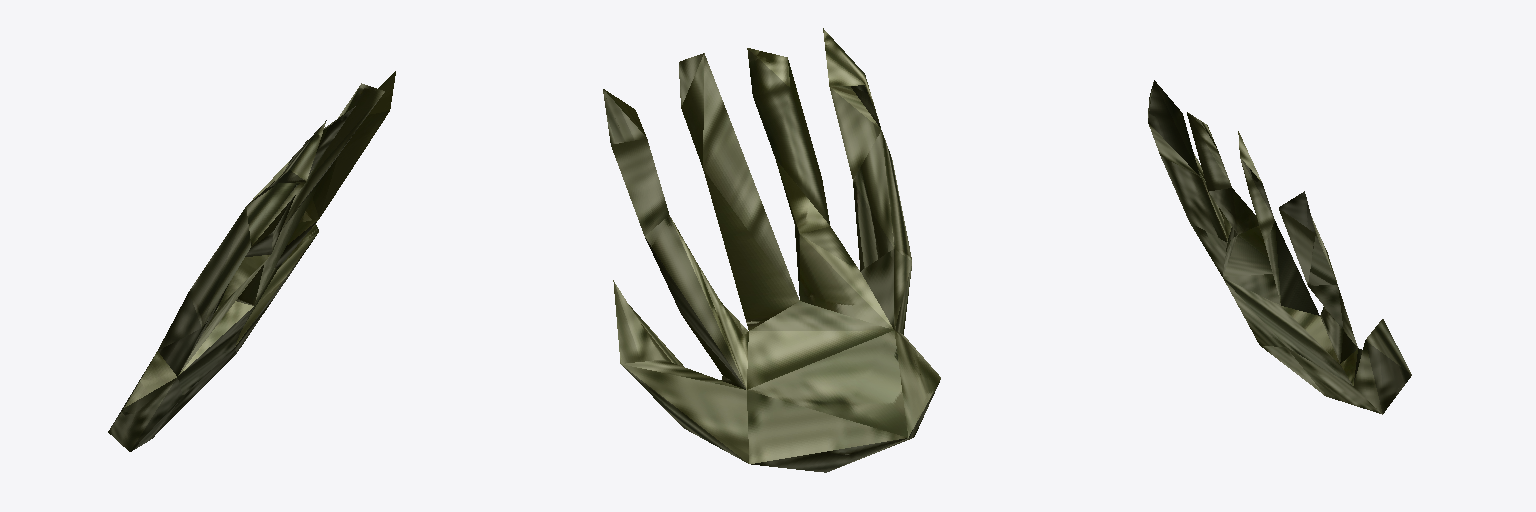
3 renders of one model, left to right at view 1: azimuth 30°, elevation 25°; view 2: azimuth 150°, elevation 25°; view 3: azimuth 270°, elevation 25°, orthographic.
Visible parts, largest first — view 1: unknown; view 2: unknown; view 3: unknown.
Part boxes in pixels (x1,y1,x2,y2): unknown: (108,71,395,451); unknown: (603,28,940,472); unknown: (1148,80,1411,414).
Bounding box in the file's own units: 0.656 × 0.7391 × 0.4914.
Materials: 1 (1 with a texture image).